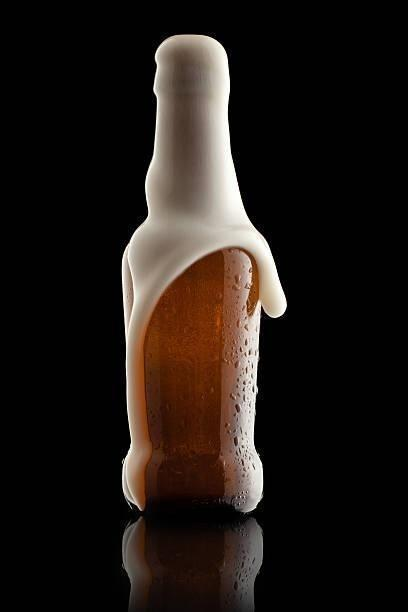bottle-glass: (115, 30, 286, 521)
